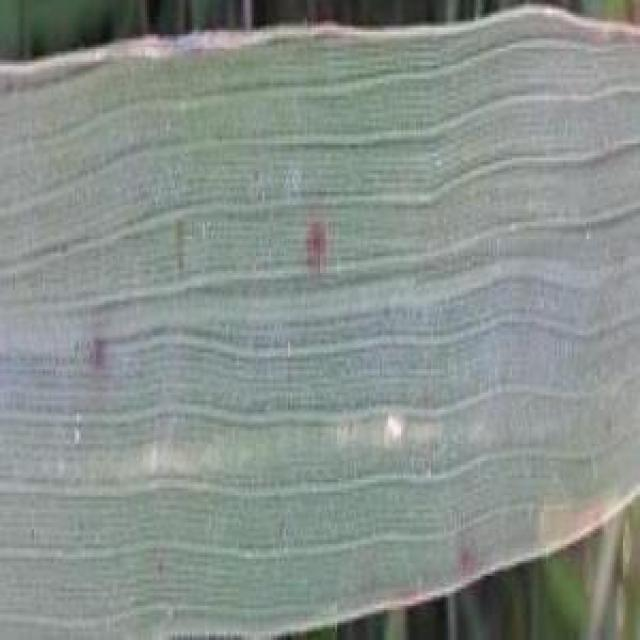brownspots: (298, 220, 332, 271)
